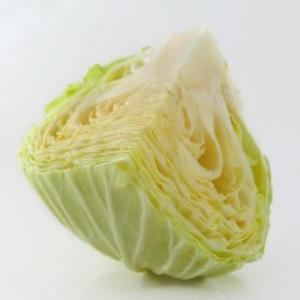cabbage: (15, 24, 275, 284)
